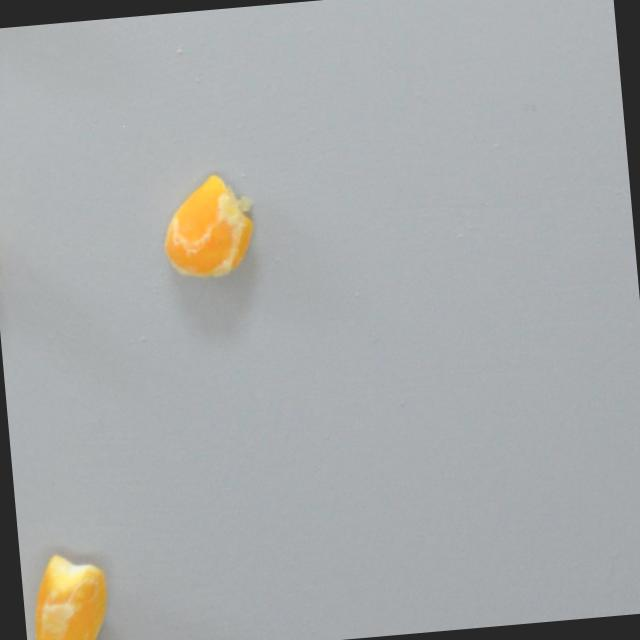dañado: (152, 164, 266, 283), (19, 544, 120, 640)
